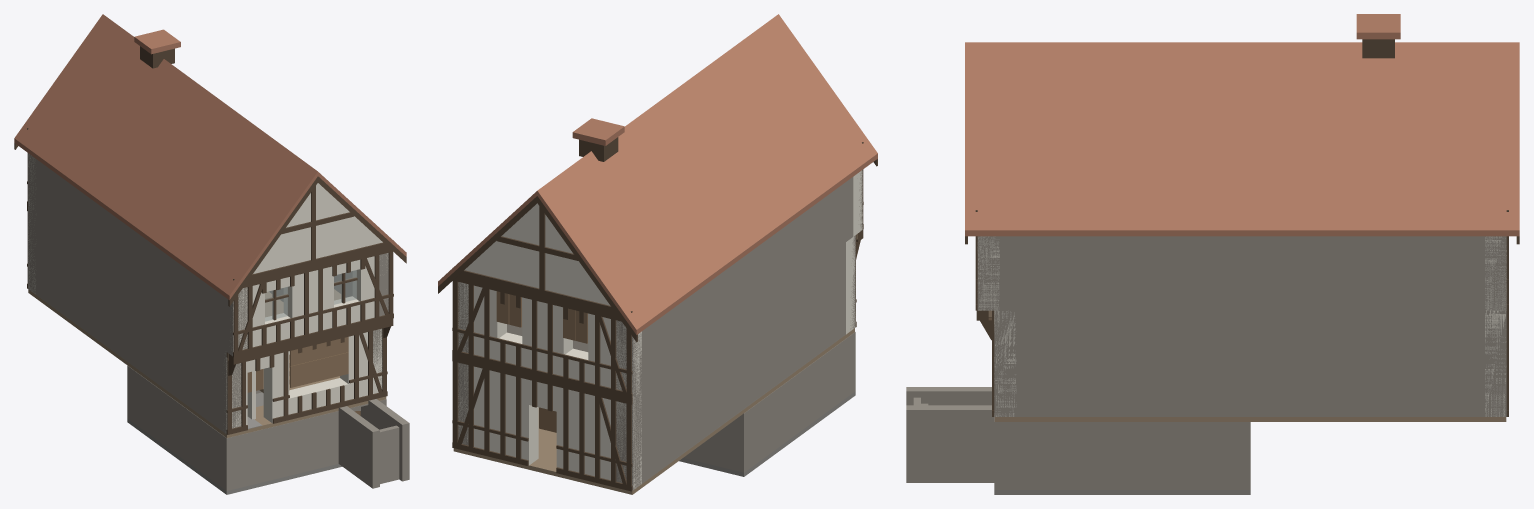
Rendered from merchant-a.glb.
3 views of the same model, side by side, from view 1: azimuth 30°, elevation 25°; view 2: azimuth 150°, elevation 25°; view 3: azimuth 270°, elevation 25° (orthographic). The views are drawn at different scales.
Parts seen in each view (by area): view 1: stone, roof, render, timber, floor, merchant-a-shutter-02 leaf, glass, flags, merchant-a-shutter-01 leaf; view 2: roof, stone, render, timber, floor, flags; view 3: stone, roof, render, floor, timber, flags.
Boxes of the visible parts, x1,y1,x2,y2 form: stone: (28,153,409,490); roof: (14,14,406,300); render: (28,154,388,432); timber: (14,46,406,434); floor: (28,289,386,437); merchant-a-shutter-02 leaf: (290,352,348,387); glass: (265,270,356,321); flags: (127,392,342,494); merchant-a-shutter-01 leaf: (290,337,348,365); roof: (438,14,877,334); stone: (458,170,862,490); render: (458,170,862,490); timber: (438,137,877,491); floor: (453,234,857,494); flags: (679,391,855,476); stone: (906,236,1506,489); roof: (965,14,1519,236); render: (977,236,1506,416); floor: (988,310,1506,421); timber: (965,39,1519,416); flags: (994,490,1250,494).
Size of the model in its own units: 7.2 by 12.7 by 16.75.
